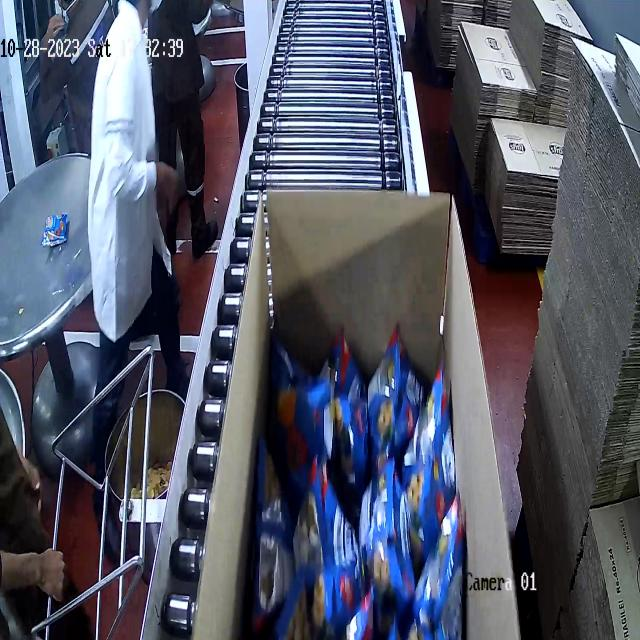PAPRIKA: (274, 325, 470, 640)
